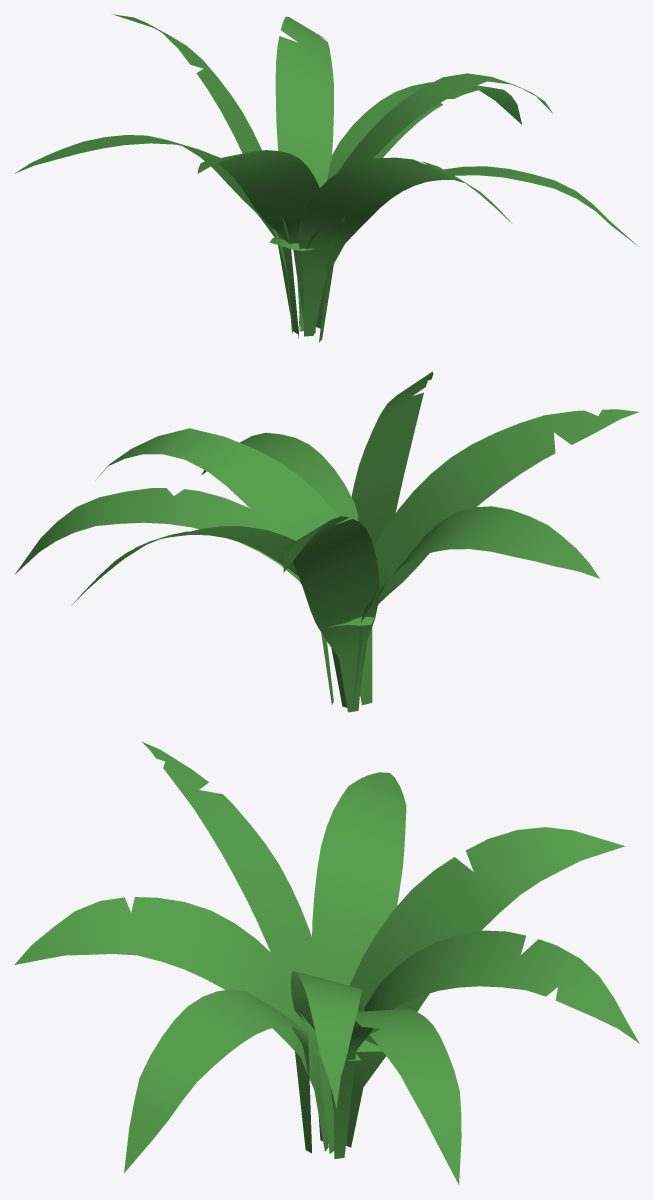
Rendered from plant_dracaena_C.fbx.
3 renders of one model, top to bottom at view 1: azimuth 30°, elevation 25°; view 2: azimuth 150°, elevation 25°; view 3: azimuth 270°, elevation 25°, orthographic. The views are drawn at different scales.
Visible parts, largest first — view 1: plant_dracaena_C_leaf_D, plant_dracaena_C_leaf_C, plant_dracaena_C_leaf_A, plant_dracaena_C_leaf_G, plant_dracaena_C_leaf_E, plant_dracaena_C_leaf_F, plant_dracaena_C_leaf_B, plant_dracaena_C_leaf_H; view 2: plant_dracaena_C_leaf_A, plant_dracaena_C_leaf_B, plant_dracaena_C_leaf_G, plant_dracaena_C_leaf_E, plant_dracaena_C_leaf_F, plant_dracaena_C_leaf_D, plant_dracaena_C_leaf_H, plant_dracaena_C_leaf_C; view 3: plant_dracaena_C_leaf_B, plant_dracaena_C_leaf_D, plant_dracaena_C_leaf_F, plant_dracaena_C_leaf_C, plant_dracaena_C_leaf_H, plant_dracaena_C_leaf_A, plant_dracaena_C_leaf_E, plant_dracaena_C_leaf_G.
Part boxes in pixels (x1,y1,x2,y2): plant_dracaena_C_leaf_D: [297, 157, 511, 336]; plant_dracaena_C_leaf_C: [275, 16, 333, 331]; plant_dracaena_C_leaf_A: [197, 150, 319, 333]; plant_dracaena_C_leaf_G: [298, 73, 552, 338]; plant_dracaena_C_leaf_E: [315, 82, 521, 328]; plant_dracaena_C_leaf_F: [15, 135, 298, 334]; plant_dracaena_C_leaf_B: [113, 14, 292, 333]; plant_dracaena_C_leaf_H: [319, 166, 638, 342]; plant_dracaena_C_leaf_A: [373, 409, 638, 604]; plant_dracaena_C_leaf_B: [283, 516, 379, 712]; plant_dracaena_C_leaf_G: [96, 428, 372, 705]; plant_dracaena_C_leaf_E: [14, 488, 333, 704]; plant_dracaena_C_leaf_F: [353, 506, 599, 707]; plant_dracaena_C_leaf_D: [351, 371, 433, 545]; plant_dracaena_C_leaf_H: [201, 432, 360, 695]; plant_dracaena_C_leaf_C: [71, 526, 346, 707]; plant_dracaena_C_leaf_B: [346, 827, 625, 1147]; plant_dracaena_C_leaf_D: [14, 897, 328, 1151]; plant_dracaena_C_leaf_F: [311, 772, 406, 1145]; plant_dracaena_C_leaf_C: [356, 930, 639, 1051]; plant_dracaena_C_leaf_H: [124, 989, 311, 1172]; plant_dracaena_C_leaf_A: [142, 742, 334, 1153]; plant_dracaena_C_leaf_E: [333, 1009, 461, 1184]; plant_dracaena_C_leaf_G: [291, 971, 363, 1141].
Size of the model in its own units: 122 by 58.45 by 109.
